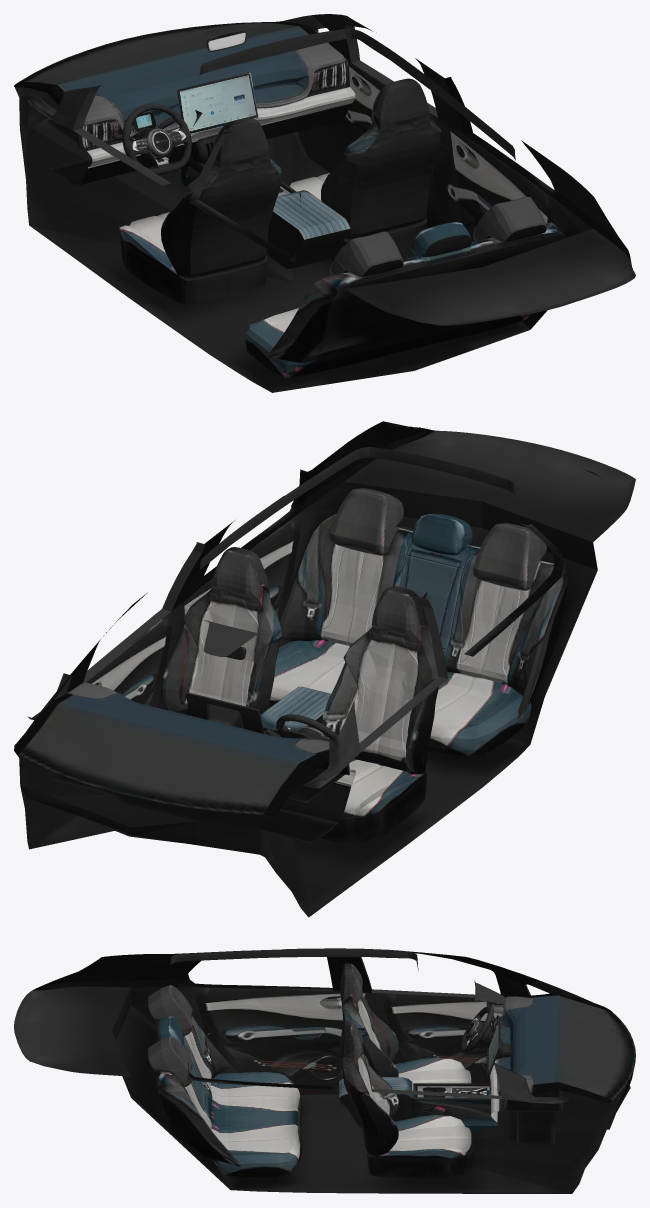
File: interior.glb
3 views of the same model, one above another, from view 1: azimuth 30°, elevation 25°; view 2: azimuth 150°, elevation 25°; view 3: azimuth 270°, elevation 25° (orthographic). The views are drawn at different scales.
Visible parts, largest first — view 1: Interior; view 2: Interior; view 3: Interior.
Boxes of the visible parts, bbox=[...] form: Interior: bbox=[14, 14, 635, 392]; Interior: bbox=[14, 421, 635, 917]; Interior: bbox=[14, 948, 635, 1193].
Bounding box in the file's own units: 1.41 × 1.05 × 3.55.
1 material, 1 textured.
